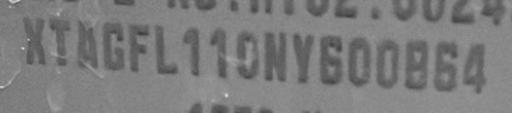letter: (458, 38, 492, 95), (230, 27, 262, 82), (260, 28, 292, 83), (72, 14, 102, 71), (150, 20, 180, 77), (402, 35, 430, 92), (431, 38, 459, 95), (18, 13, 48, 66), (290, 30, 318, 85), (316, 31, 344, 86), (44, 15, 72, 68), (100, 19, 126, 74), (126, 21, 152, 76), (345, 34, 371, 89), (206, 23, 230, 82), (374, 37, 400, 90), (179, 25, 203, 80)
